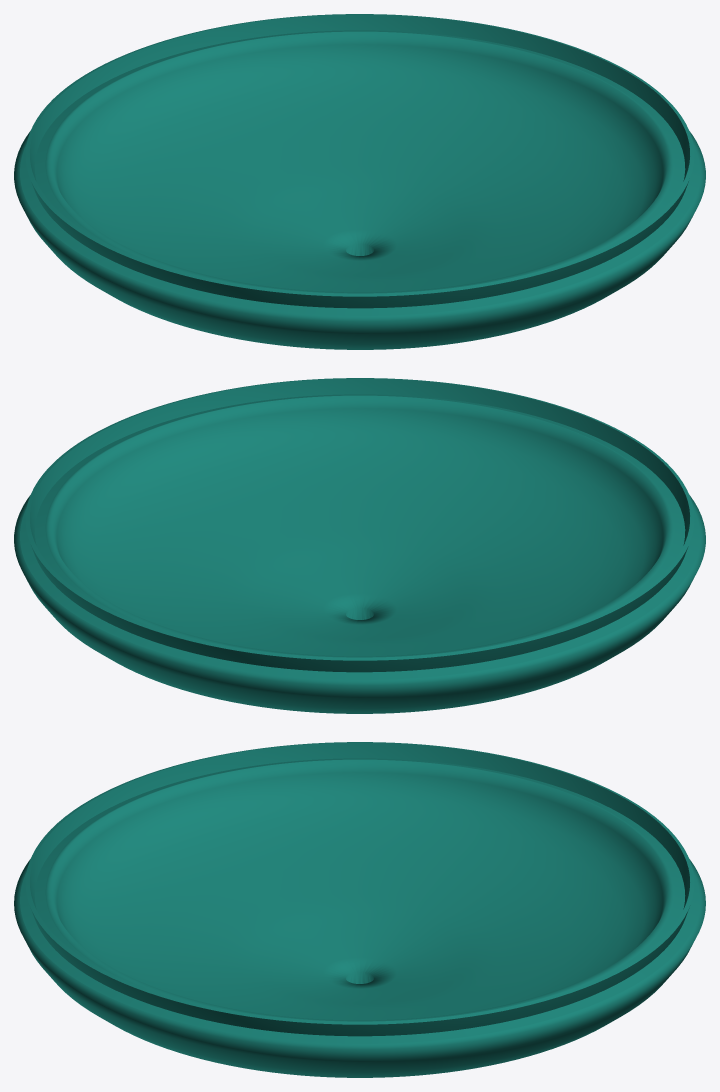
File: Teller1_Test.obj
3 views of the same model, one above another, from view 1: azimuth 30°, elevation 25°; view 2: azimuth 150°, elevation 25°; view 3: azimuth 270°, elevation 25° (orthographic).
Parts seen in each view (by area): view 1: Circle_Circle.001; view 2: Circle_Circle.001; view 3: Circle_Circle.001.
Boxes of the visible parts, x1,y1,x2,y2 form: Circle_Circle.001: (14, 14, 705, 349); Circle_Circle.001: (14, 378, 705, 713); Circle_Circle.001: (14, 742, 705, 1077).
Bounding box in the file's own units: 1.54 × 0.4428 × 1.54.
